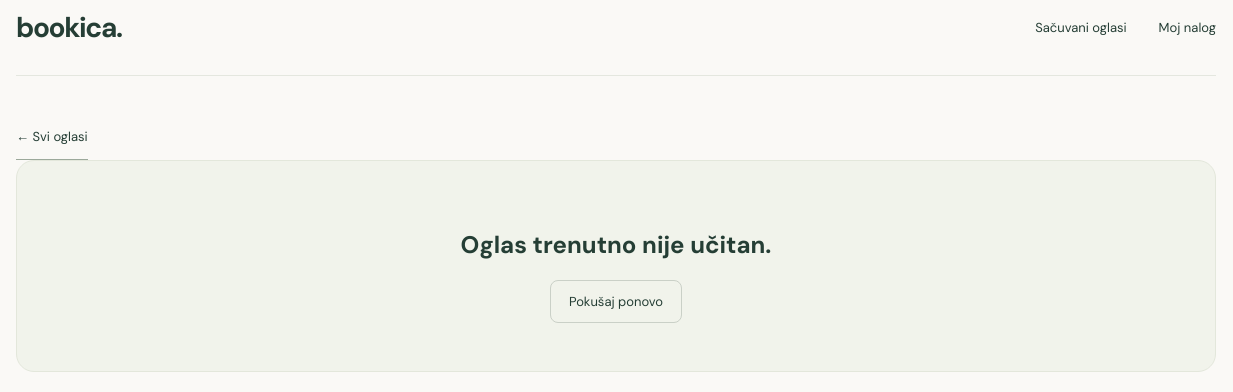
distinguishes withdrawn or missing listings from retryable errors
expect the message "Oglas trenutno nije učitan. Pokušaj ponovo" is shown: met, box [16,160,1216,372]
What coordinates should you click on to do the following:
click the button "Pokušaj ponovo"
I would click on:
 (616, 301)
Its box is [550,280,682,323].
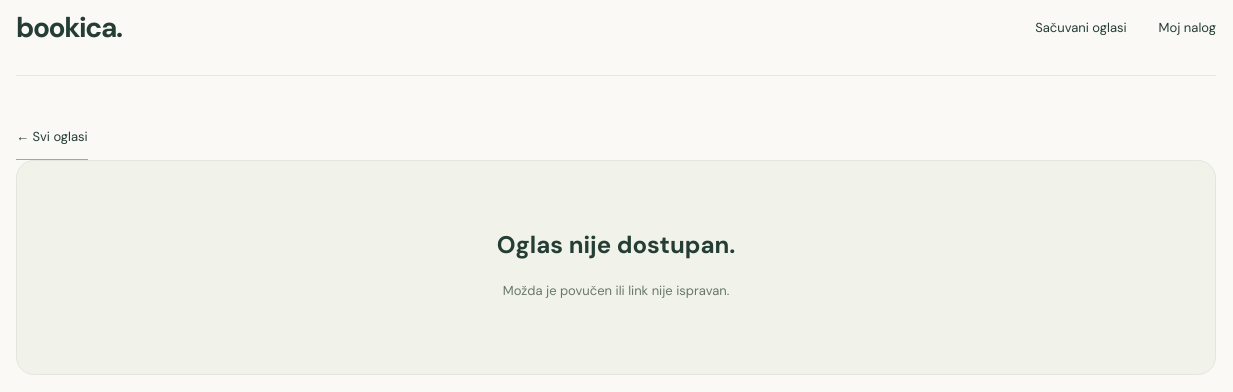
expect the heading "Oglas nije dostupan." is shown: met, box [497,229,735,260]
